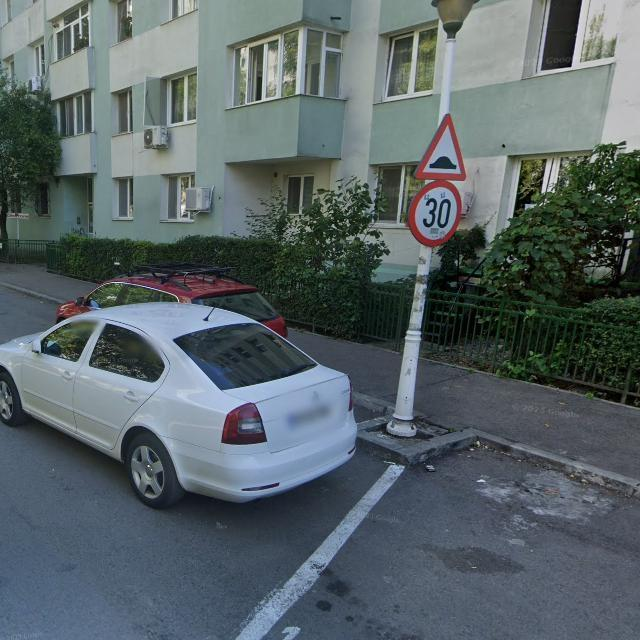forb_speed_over_30: (409, 180, 463, 246)
